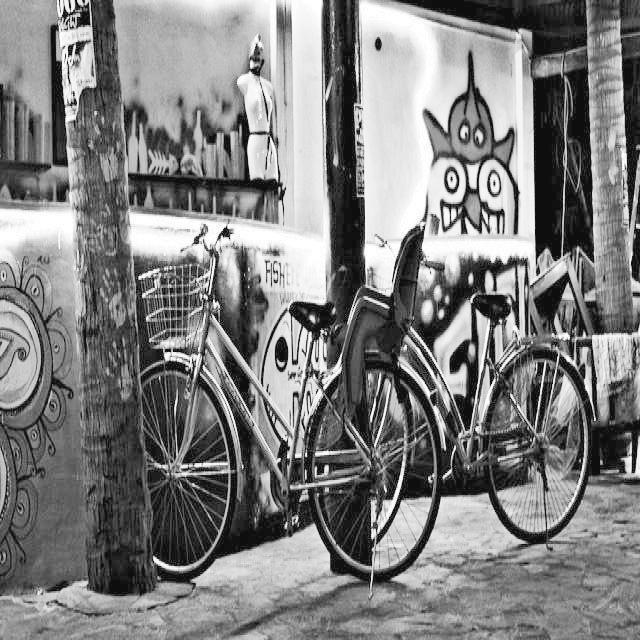Bicycle: (317, 262, 592, 590), (112, 247, 364, 589)
